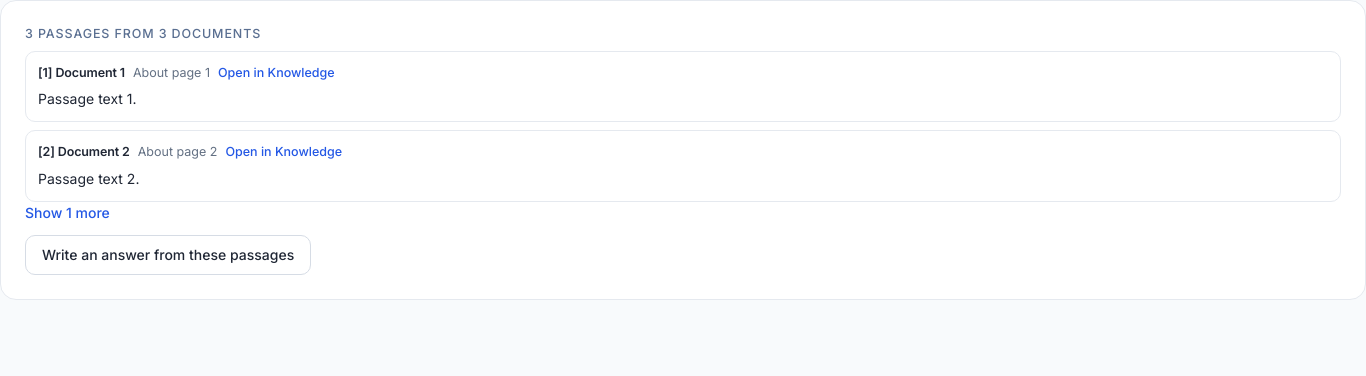
Test: DocumentsCard › quotes the first two passages, with a way to show the rest
Expected: the text "[1] Document 1" is shown, [38, 64, 125, 82]
Expected: the text "[2] Document 2" is shown, [38, 143, 130, 162]
Click the button "Show 1 more": (67, 212) [25, 202, 110, 223]
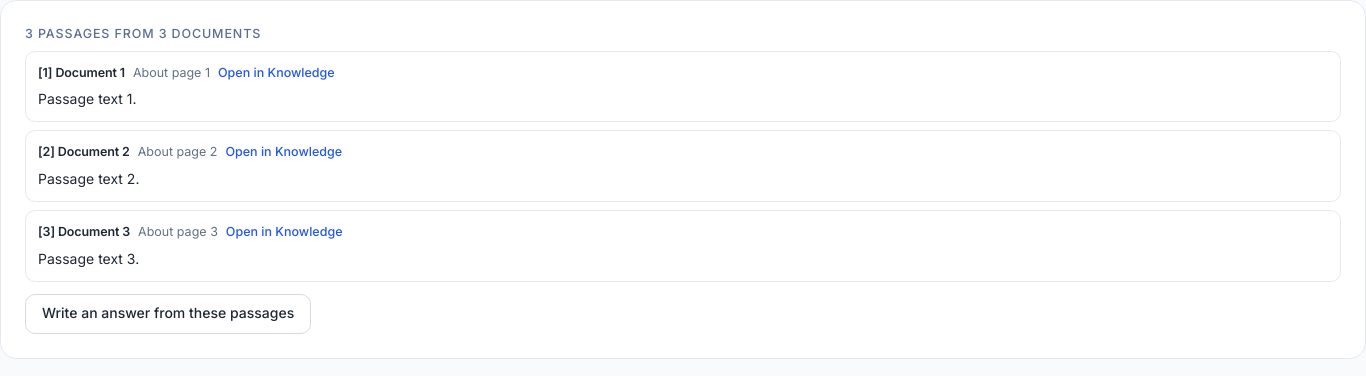
Now the text "[3] Document 3" is shown, box [38, 223, 130, 242]
